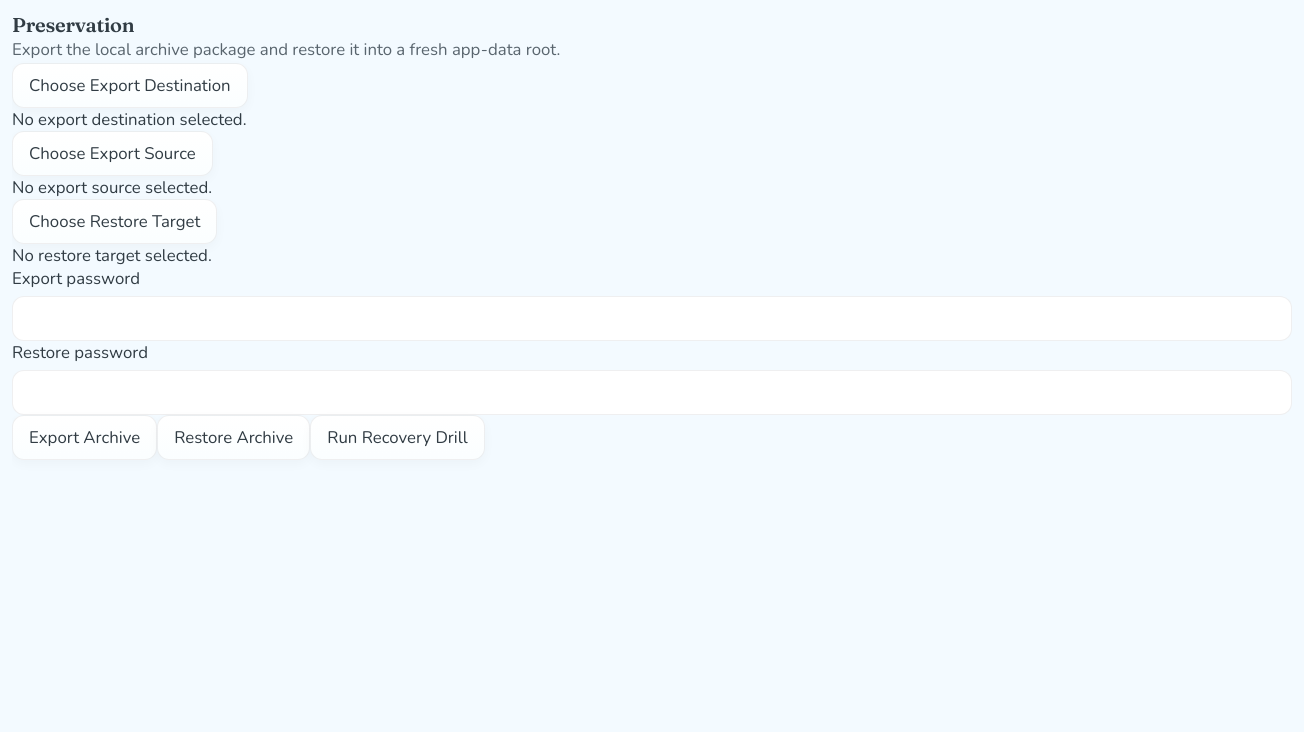
Test: PreservationPage › summarizes encrypted restore attempts without password
This screenshot has width=1304, height=732.
Step 1. Click the button "Restore Archive" → (234, 438), box [157,415,310,460]
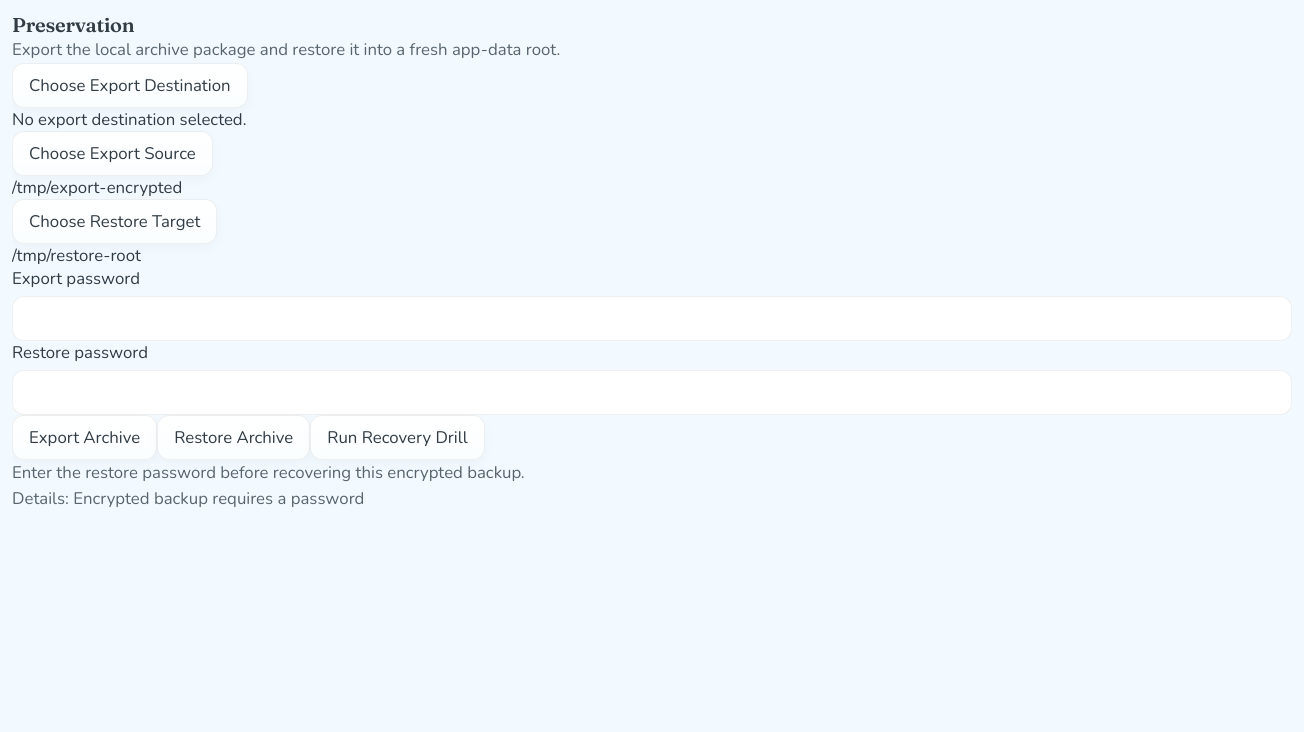
Check: the message shows "Enter the restore password before recovering this encrypted backup.", box [12,461,525,484]
Check: the message shows "Encrypted backup requires a password", box [12,487,364,510]
